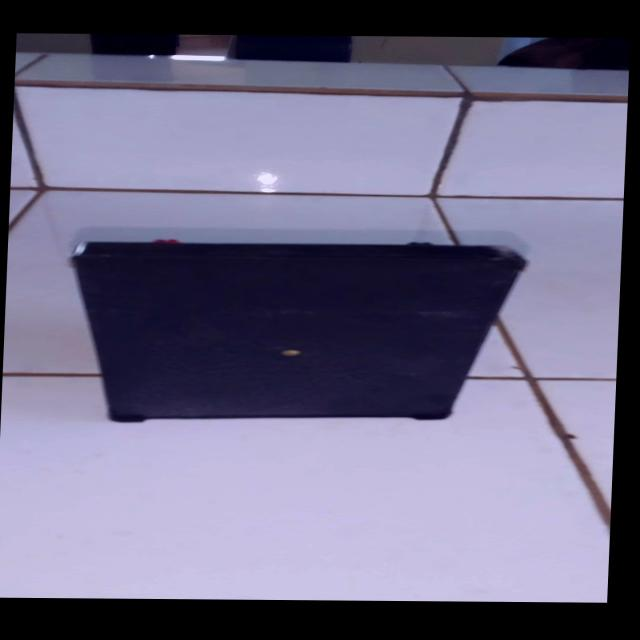Digital Voltmeter 0-20V: (42, 230, 526, 437)
